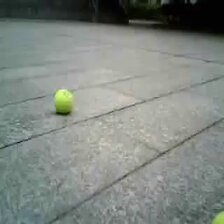tennis: (54, 90, 72, 113)
